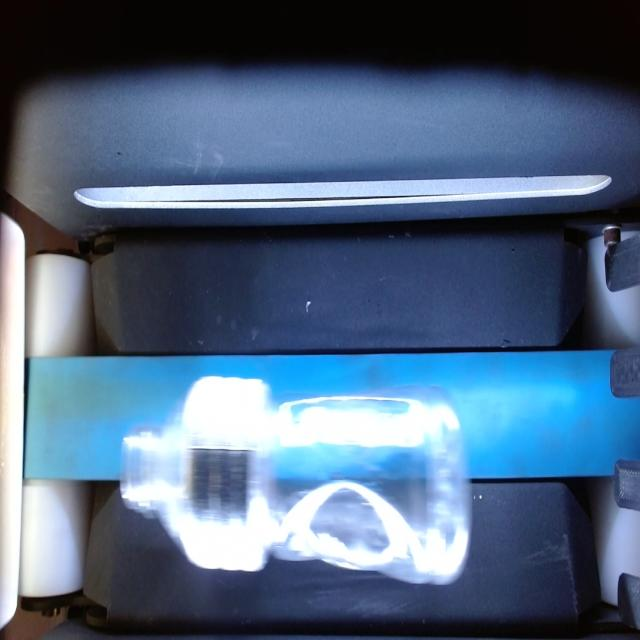bottom: (277, 383, 474, 588)
label: (181, 370, 277, 573)
neck: (118, 401, 182, 546)
